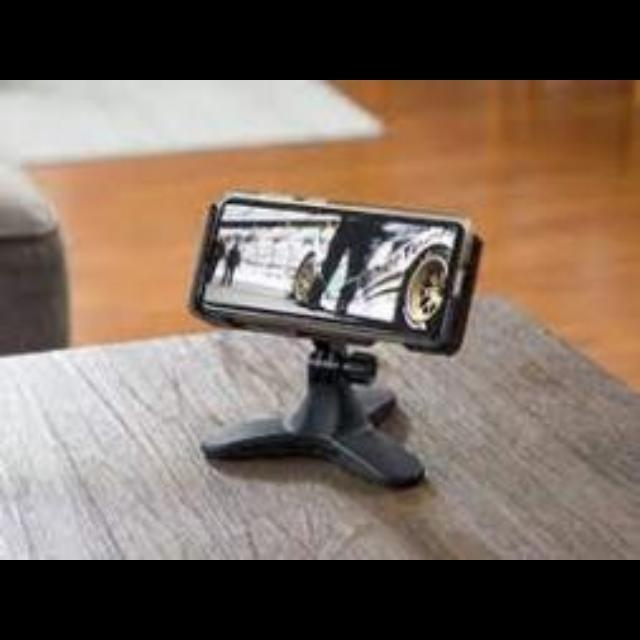PhoneUse: (190, 190, 468, 320)
